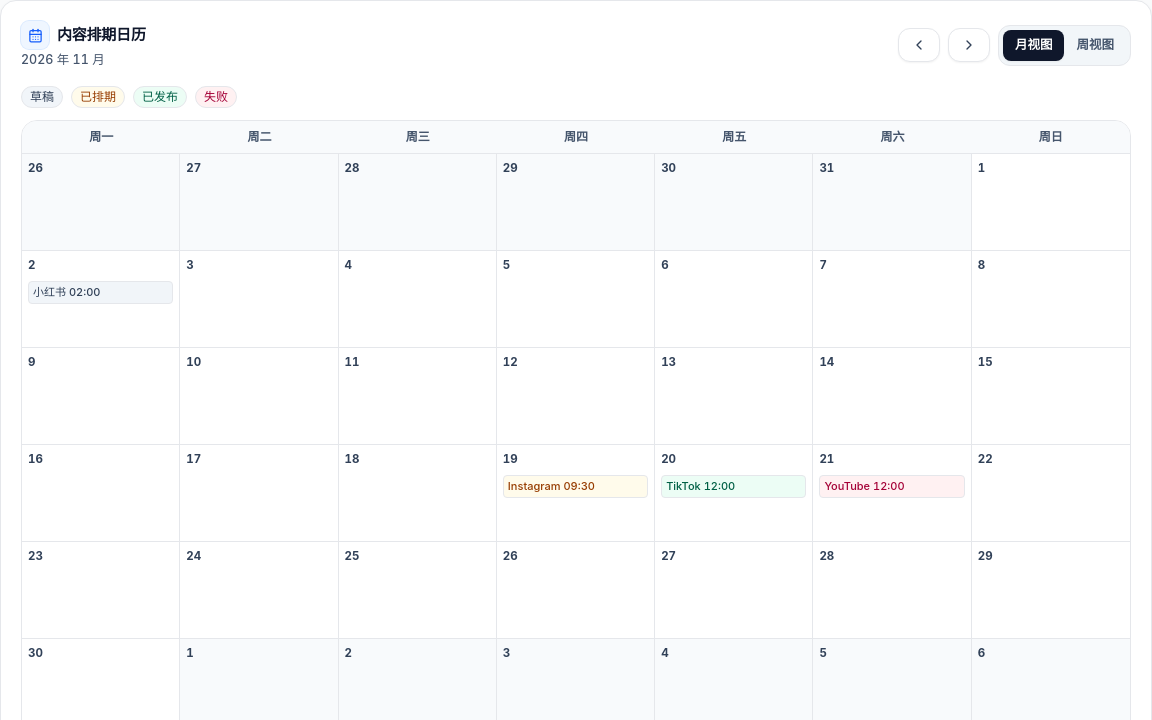
Scenario: social components › switches between month and week calendar views with status labels
Later steps or results of the test are not shown.
Expected: the text "2026 年 11 月" is shown, 21,52 -> 105,67
Expected: the list item "草稿" is shown, 21,86 -> 63,108
Click the button "Instagram 09:30" at (575, 486), box 503,475 -> 648,498
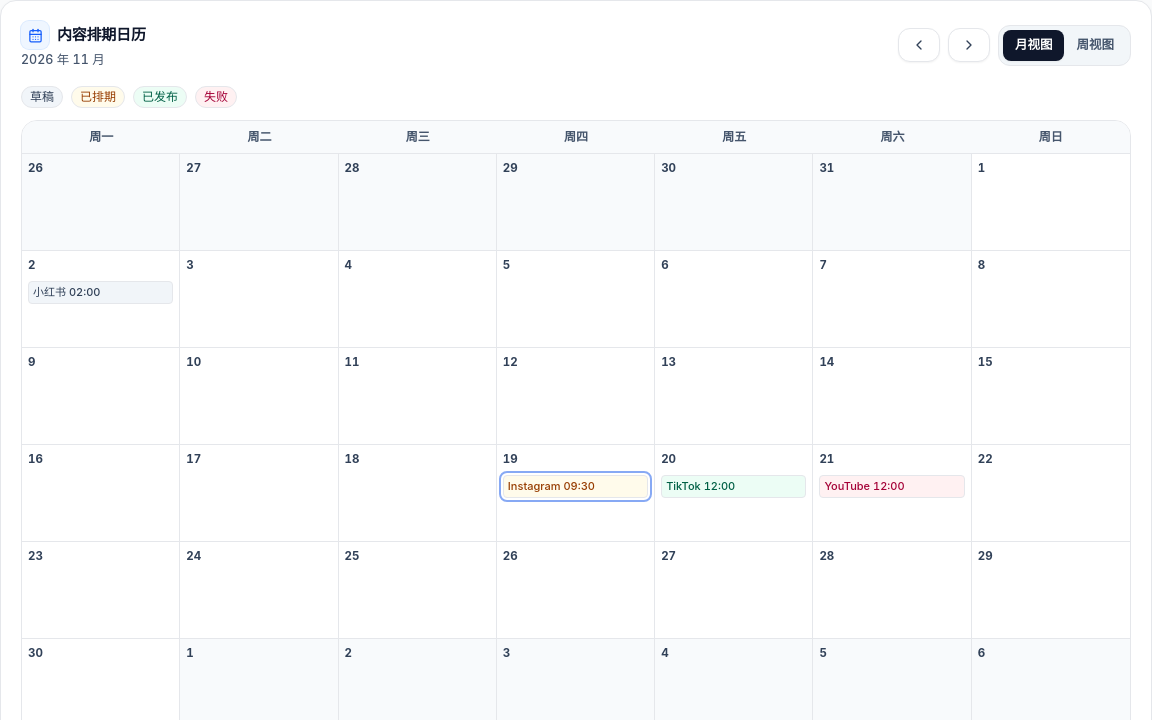
Click the button "周视图" at (1095, 45), box 1064,30 -> 1126,61
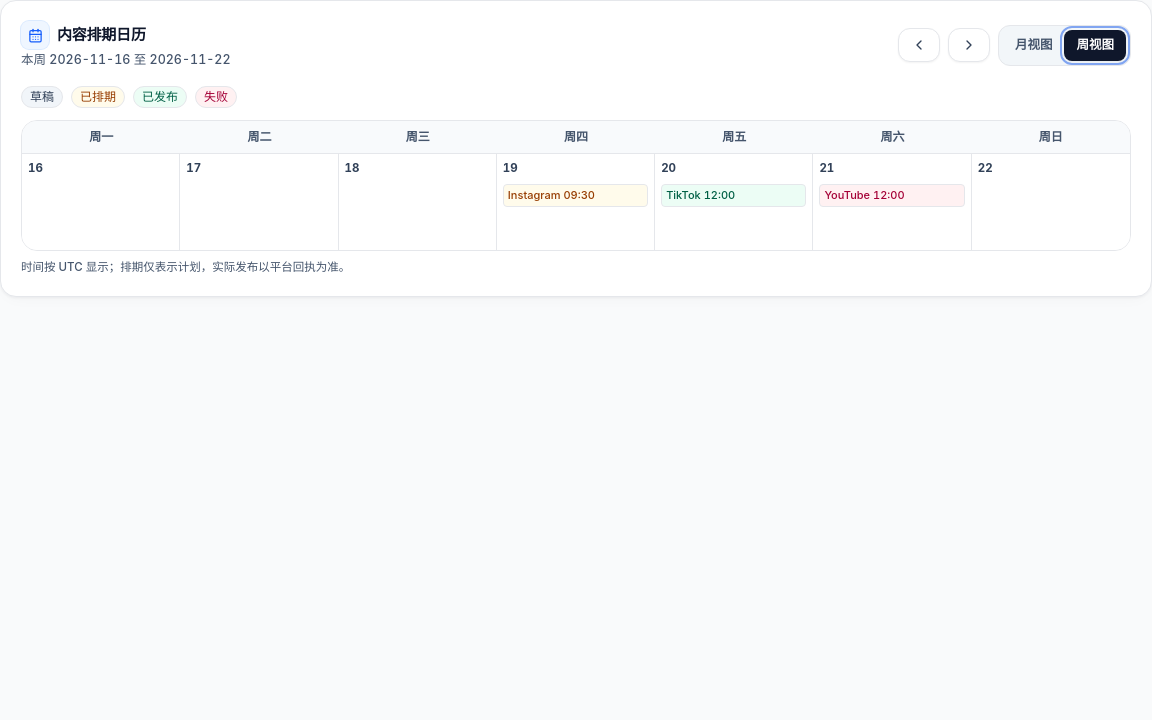
Expected: the cell "2026-11-02" is not shown
Result: the number of cells is 7
